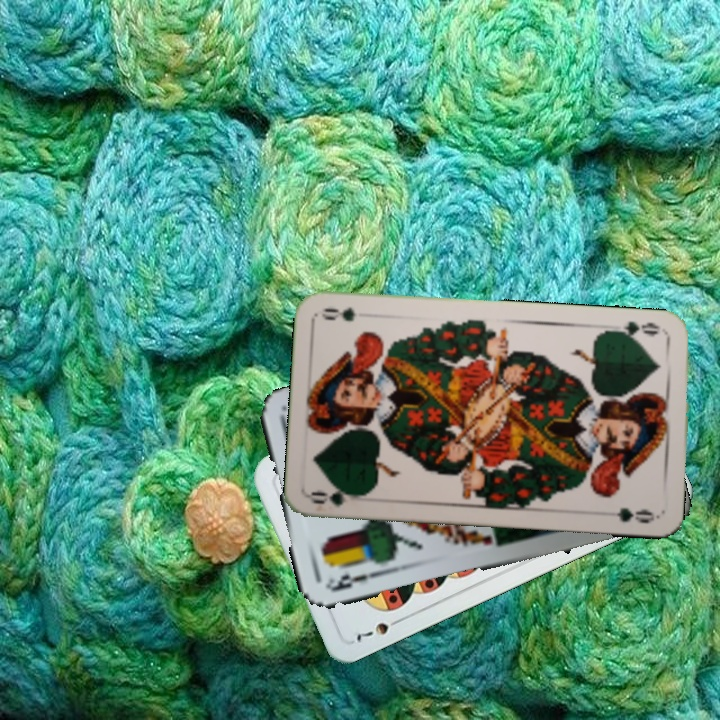EK: (323, 567, 382, 594)
GO: (308, 483, 368, 510), (609, 317, 662, 342)
S7: (352, 614, 405, 646)
